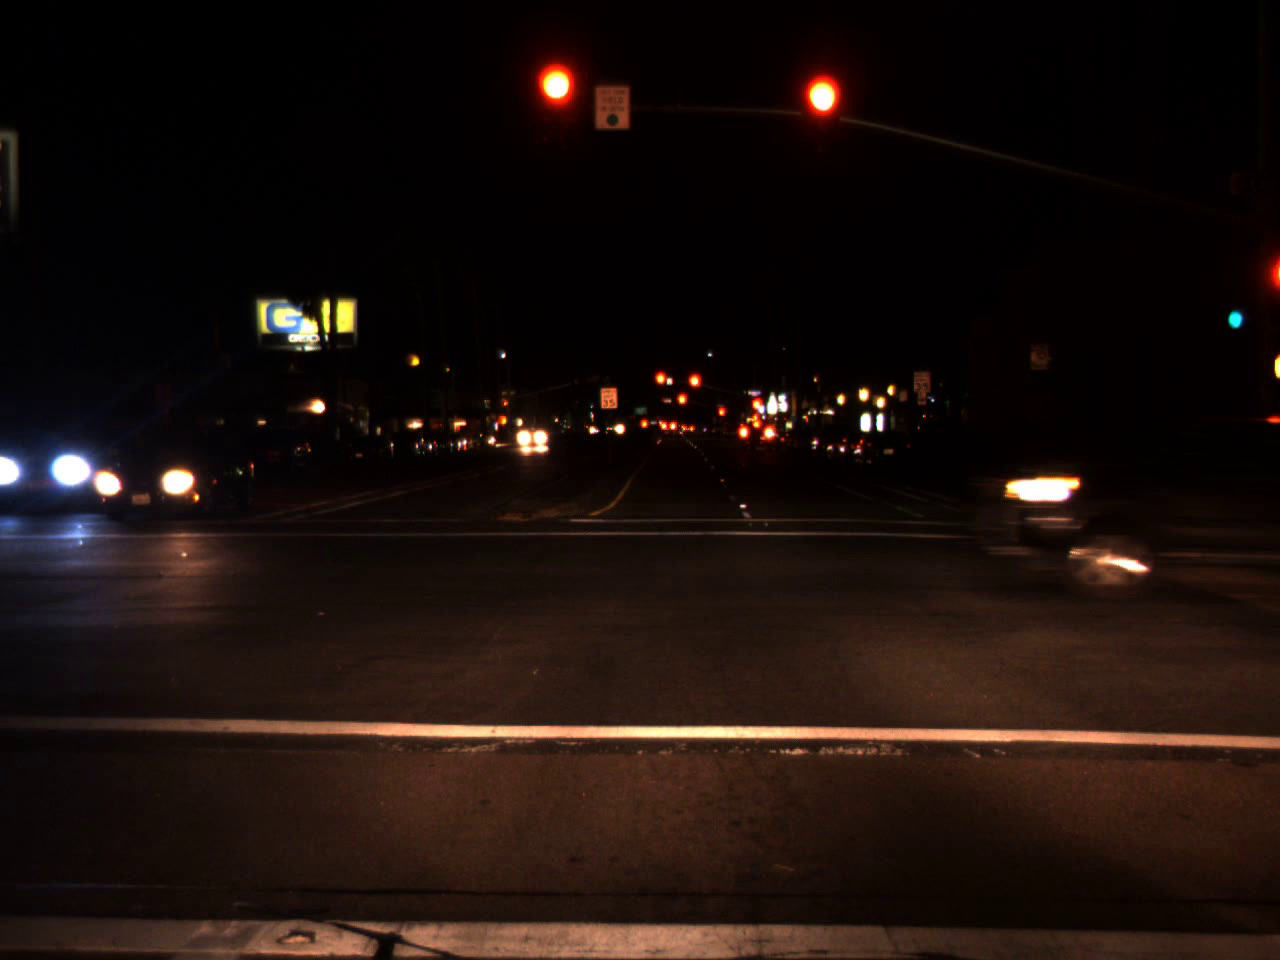stop: (536, 66, 577, 144), (801, 75, 841, 153), (653, 369, 671, 401), (686, 371, 702, 403), (676, 391, 688, 418), (751, 399, 761, 417), (717, 407, 724, 423), (503, 399, 509, 412)
